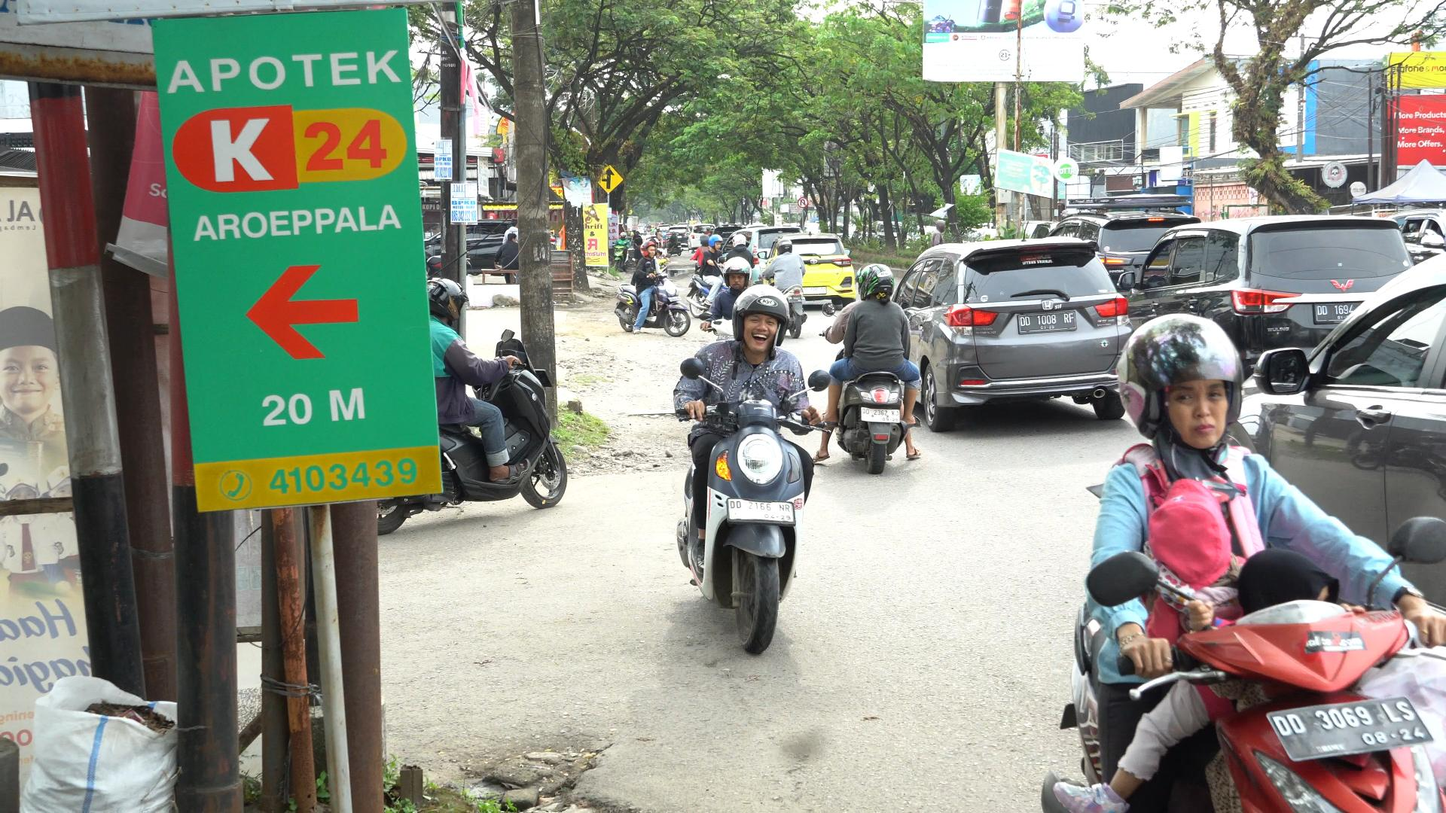number-plate: (726, 494, 796, 526)
